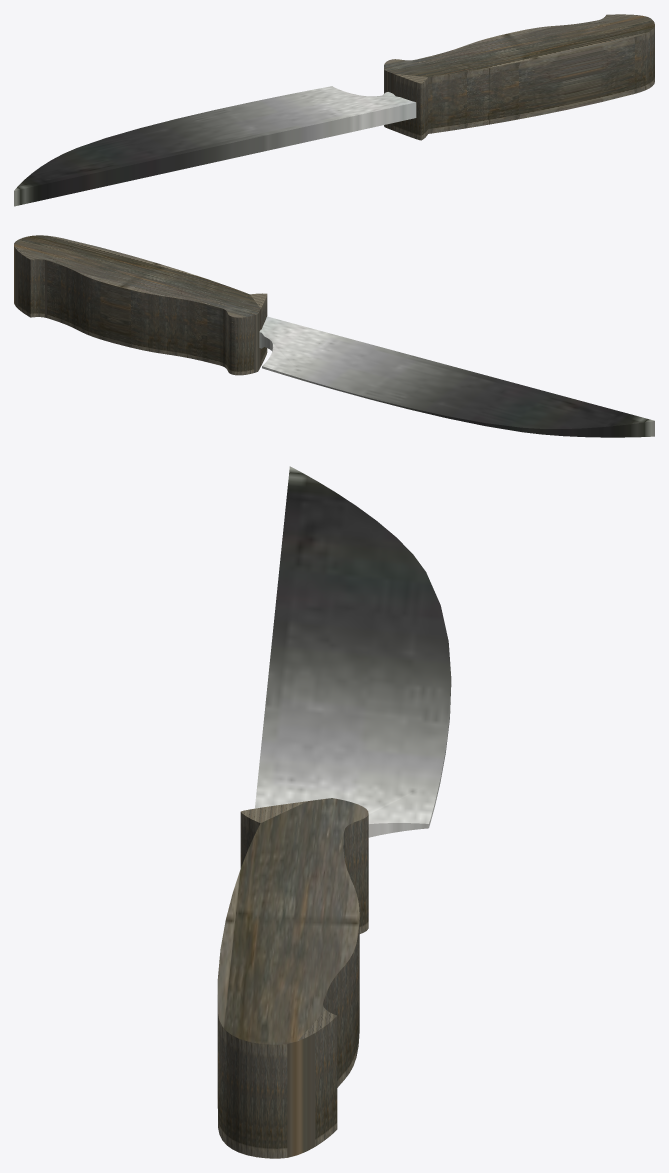
File: knife.glb
3 views of the same model, one above another, from view 1: azimuth 30°, elevation 25°; view 2: azimuth 150°, elevation 25°; view 3: azimuth 270°, elevation 25° (orthographic). The views are drawn at different scales.
Visible parts, largest first — view 1: knife.ms3d.mo; view 2: knife.ms3d.mo; view 3: knife.ms3d.mo.
Part boxes in pixels (left/top/right/bottom): knife.ms3d.mo: left=14, top=14, right=654, bottom=206; knife.ms3d.mo: left=14, top=235, right=654, bottom=437; knife.ms3d.mo: left=217, top=466, right=451, bottom=1158.
Bounding box in the file's own units: 12.73 × 1.09 × 2.03.
Materials: 2 (2 with a texture image).
